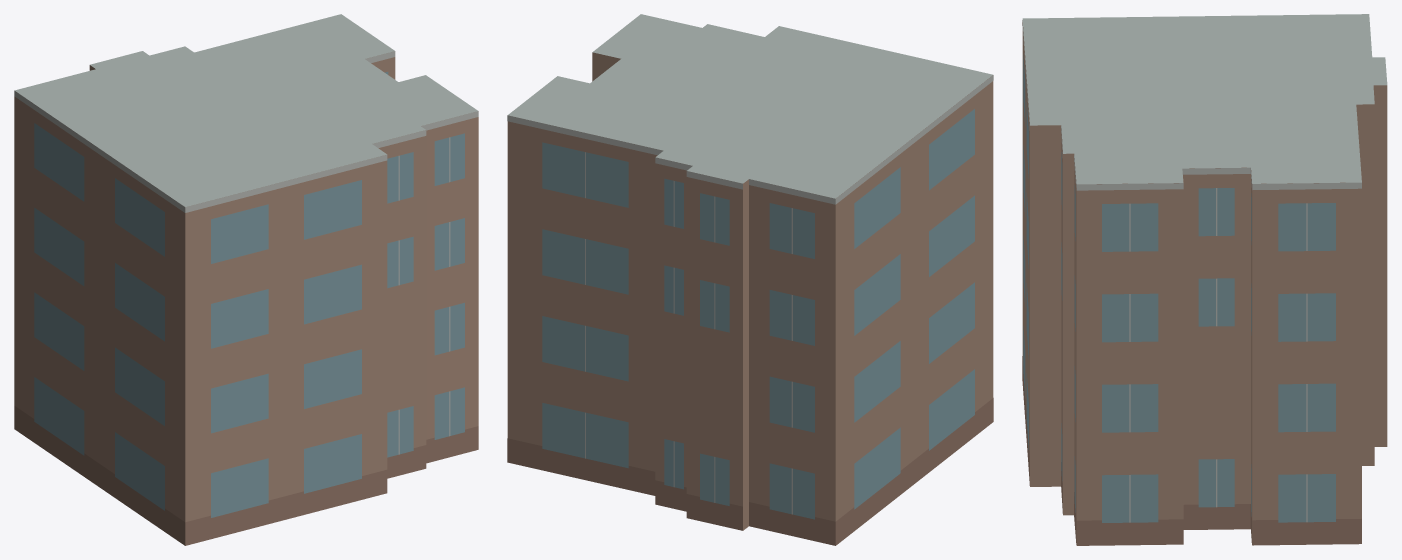
File: survey-upis-32708071.glb
3 views of the same model, side by side, from view 1: azimuth 30°, elevation 25°; view 2: azimuth 150°, elevation 25°; view 3: azimuth 270°, elevation 25° (orthographic). The views are drawn at different scales.
Visible parts, largest first — view 1: survey-upis-32708071.tmp; view 2: survey-upis-32708071.tmp; view 3: survey-upis-32708071.tmp.
Boxes of the visible parts, bbox=[...] form: survey-upis-32708071.tmp: bbox=[14, 14, 478, 545]; survey-upis-32708071.tmp: bbox=[507, 14, 993, 545]; survey-upis-32708071.tmp: bbox=[1022, 14, 1387, 545].
Bounding box in the file's own units: 14.26 × 14.1 × 12.91.
